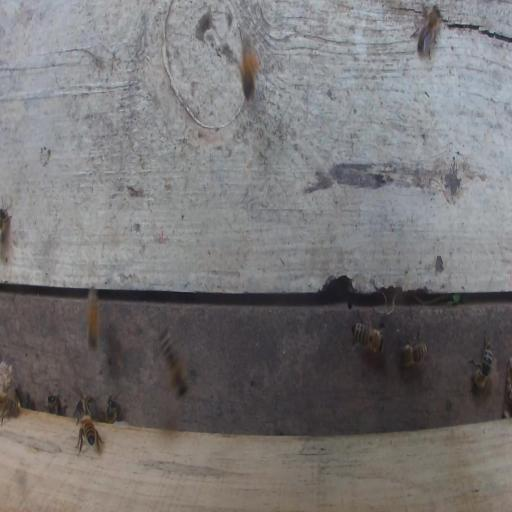nonpollenbee: (158, 329, 194, 399), (409, 4, 445, 60), (468, 333, 492, 391), (397, 328, 428, 369), (351, 320, 385, 355), (75, 415, 104, 456), (87, 286, 101, 351), (0, 393, 19, 423), (74, 395, 95, 421), (1, 204, 12, 243), (105, 396, 119, 425), (45, 393, 61, 416)
pollenbee: (237, 32, 261, 100)
